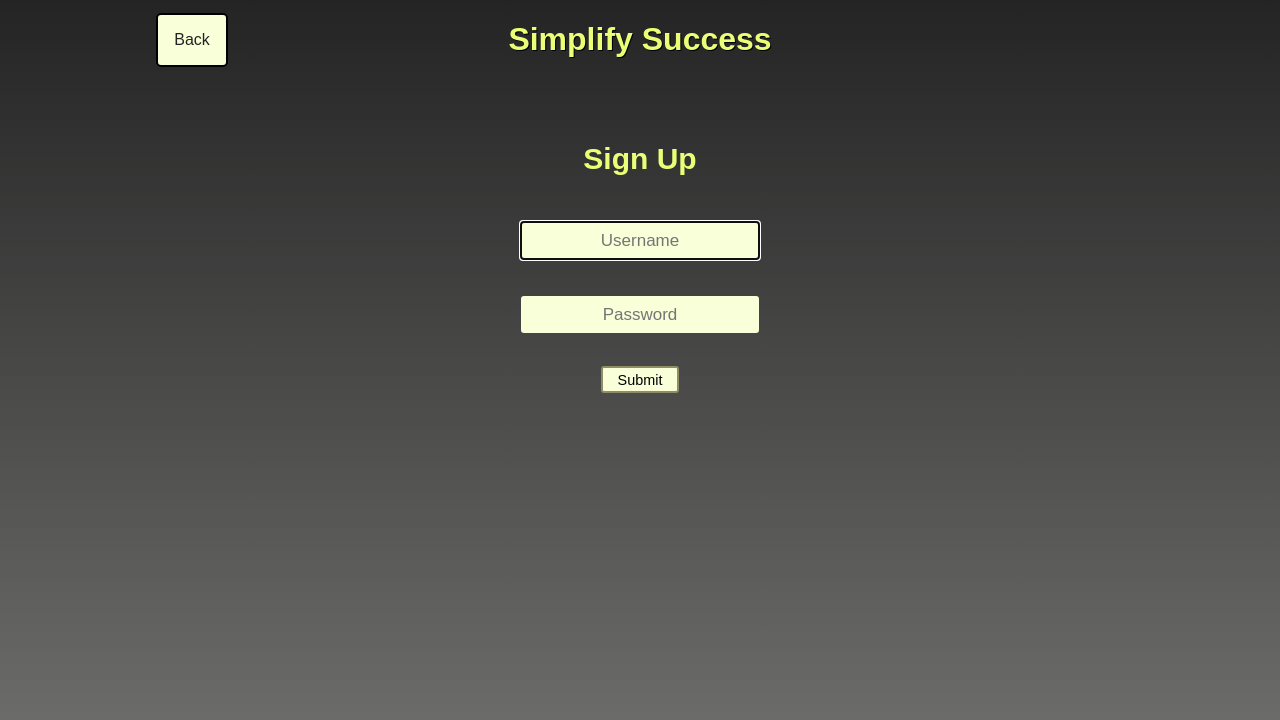
Test: Habit app › Habit app signup and login › User can't sign up with password with less than five characters
Type "TestDude" into the field with test id "username-input" at x=640, y=241, box [521, 222, 759, 259]
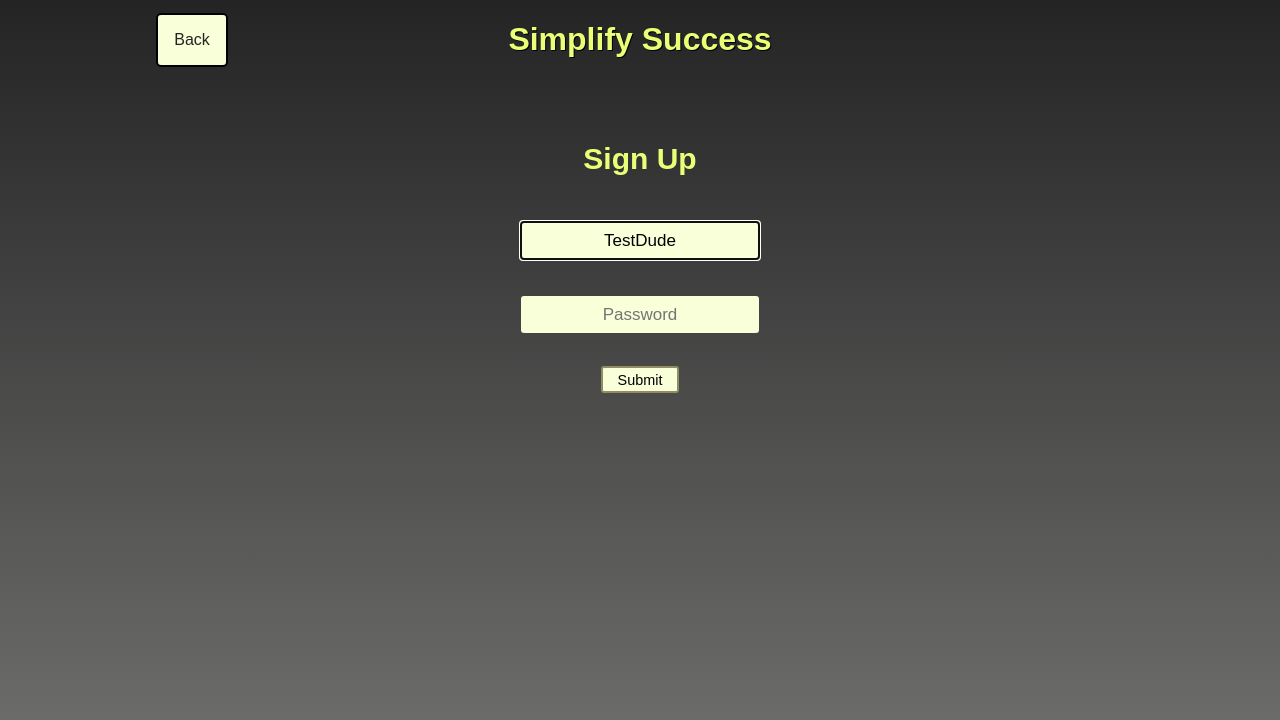
Type "pass" into the password field with test id "password-input" at x=640, y=315, box [521, 296, 759, 333]
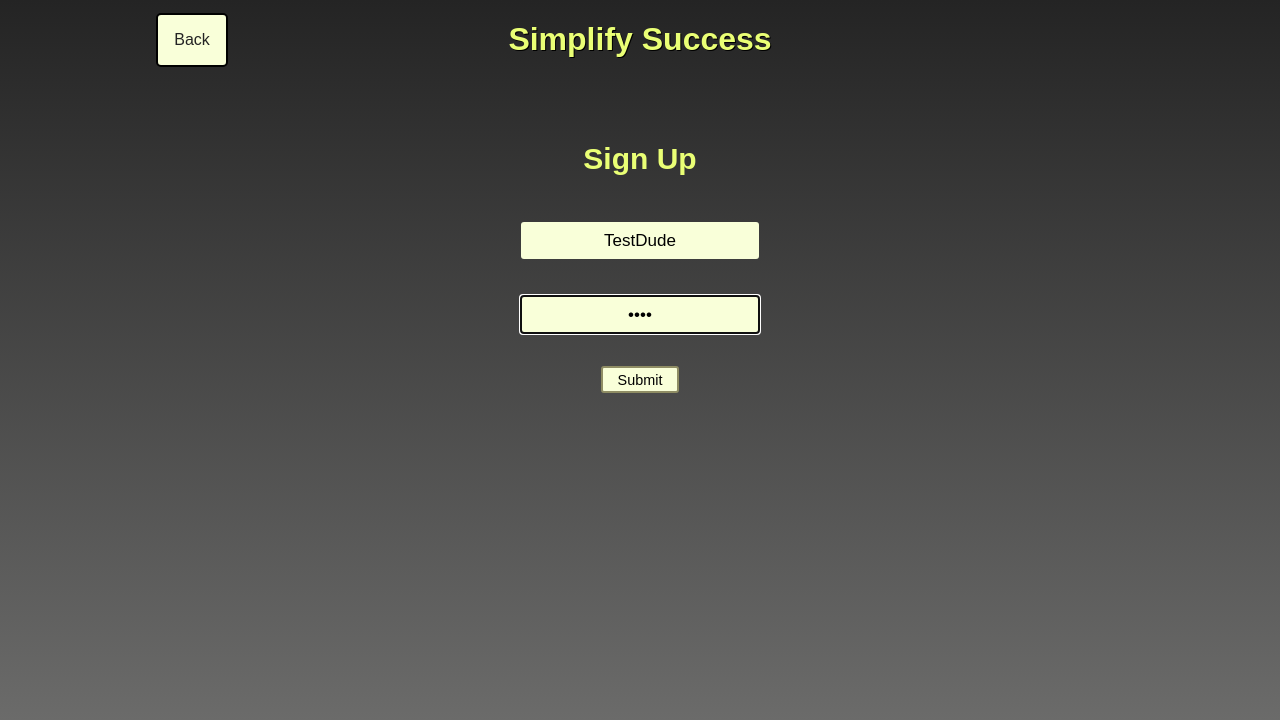
Click the button with test id "submit-btn" at x=640, y=380, box [601, 366, 679, 393]
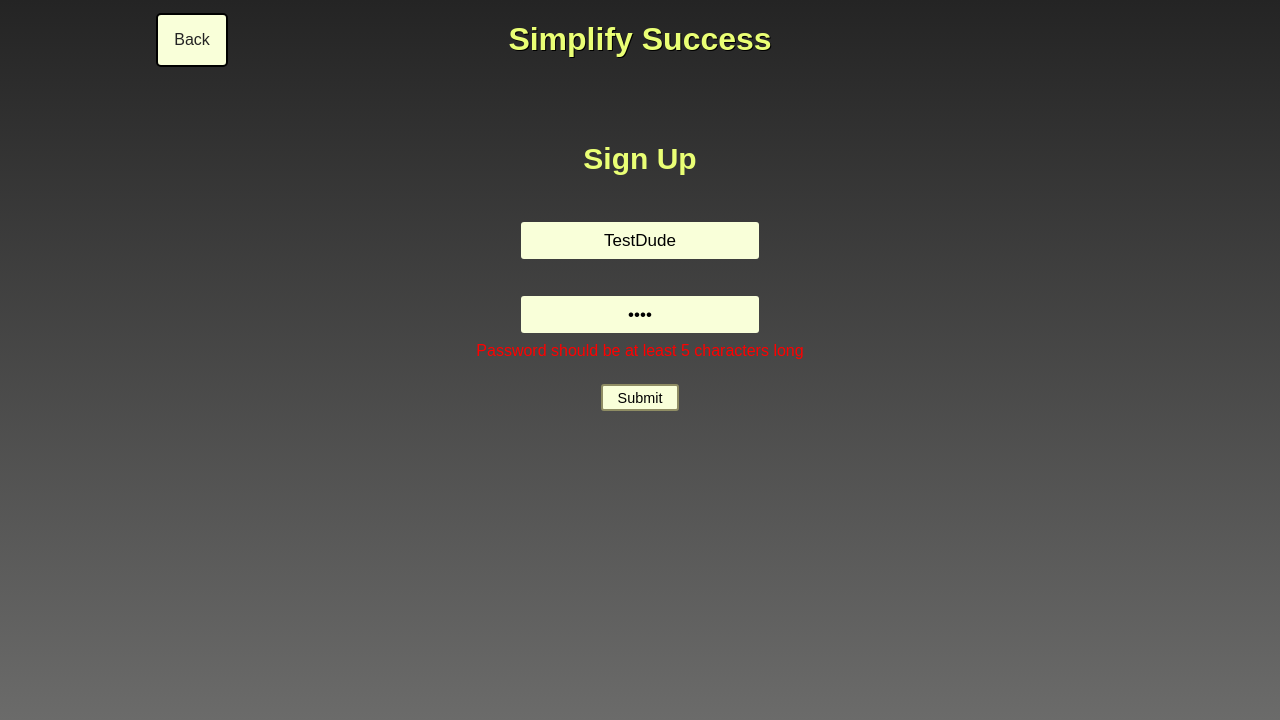
Check: the text "Password should be at least 5" is shown, box [476, 342, 803, 359]
